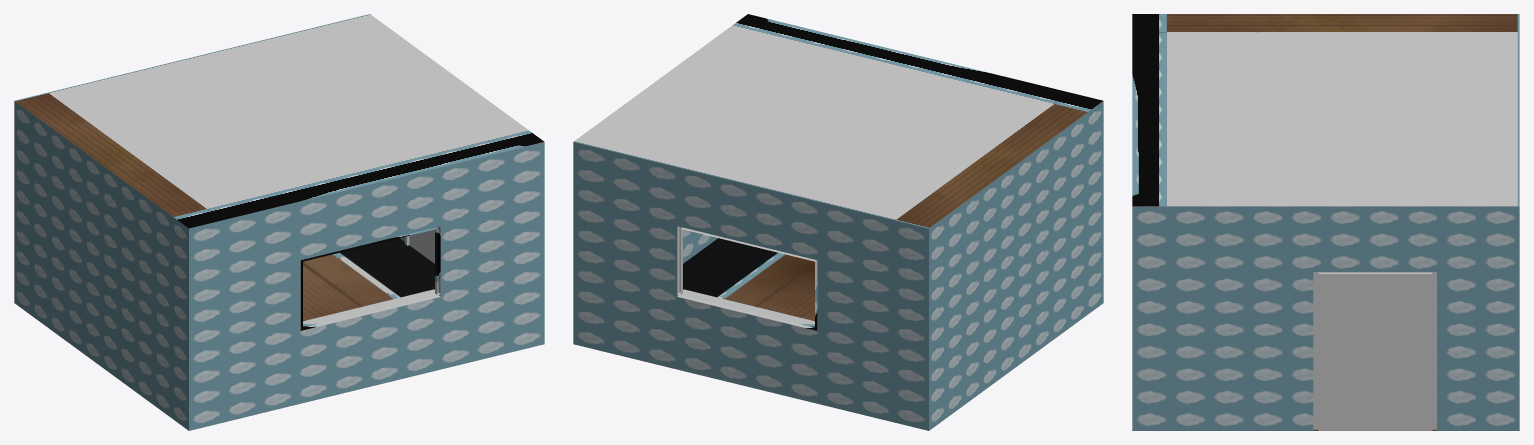
Rendered from HubRoom.fbx.
The picture shows the model from 3 angles, left to right: view 1: azimuth 30°, elevation 25°; view 2: azimuth 150°, elevation 25°; view 3: azimuth 270°, elevation 25°; orthographic projection. The views are drawn at different scales.
Parts seen in each view (by area): view 1: Cube.004; view 2: Cube.004; view 3: Cube.004.
Boxes of the visible parts, box(x1,y1,x2,y2) form: Cube.004: box(14, 14, 544, 430); Cube.004: box(573, 14, 1103, 430); Cube.004: box(1132, 14, 1519, 430).
Size of the model in its own units: 107374 by 58424 by 91334.
2 materials, 1 textured.
